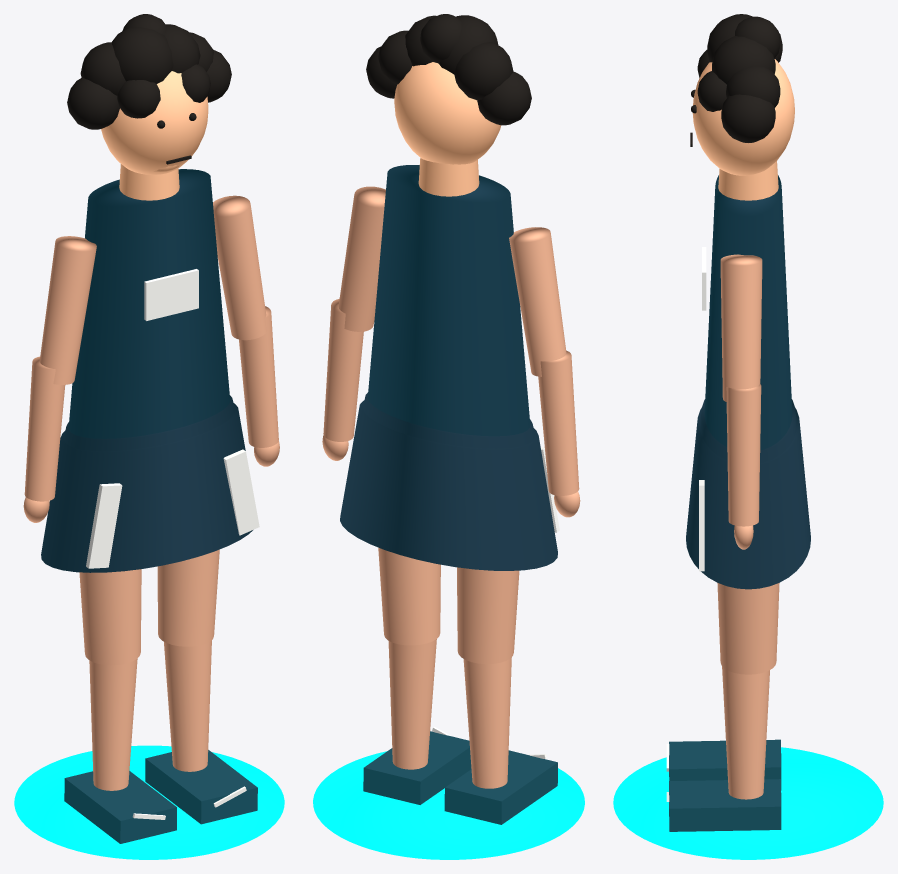
File: basketball-figure.glb
3 views of the same model, side by side, from view 1: azimuth 30°, elevation 25°; view 2: azimuth 150°, elevation 25°; view 3: azimuth 270°, elevation 25° (orthographic).
Visible parts, largest first — view 1: basketballFigure; view 2: basketballFigure; view 3: basketballFigure.
Part boxes in pixels (x1=…): basketballFigure: x1=14, y1=14, x2=284, y2=859; basketballFigure: x1=313, y1=14, x2=584, y2=859; basketballFigure: x1=613, y1=14, x2=883, y2=859.
Bounding box in the file's own units: 1.26 × 3.71 × 1.16.
